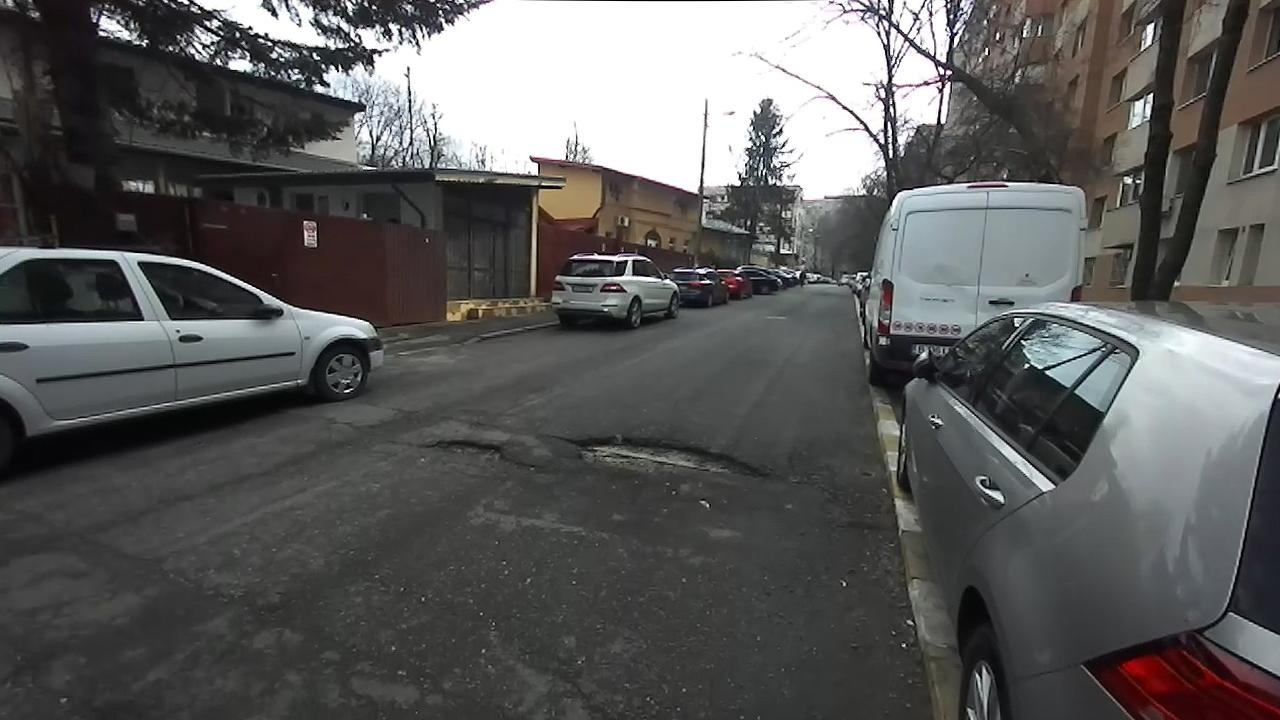pothole: (547, 428, 782, 488), (421, 431, 539, 470)
